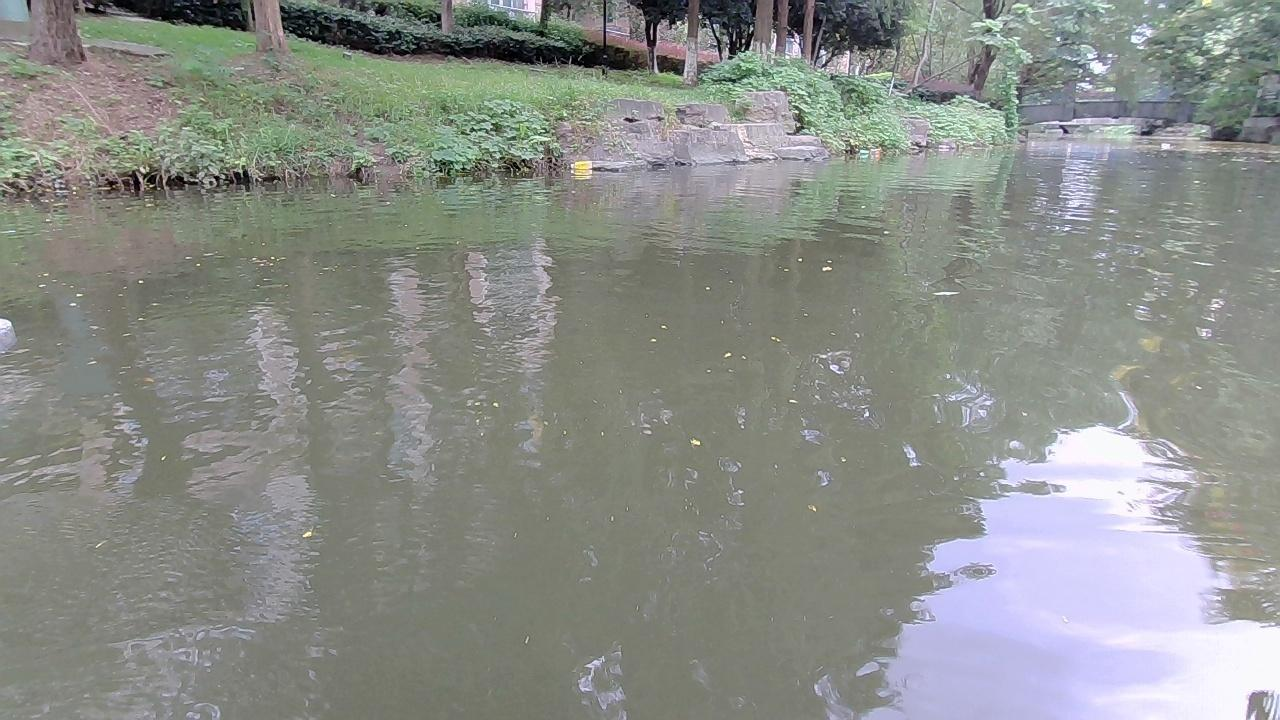bottle: (571, 158, 591, 173), (866, 147, 880, 163), (1157, 140, 1174, 149), (856, 147, 866, 159)
